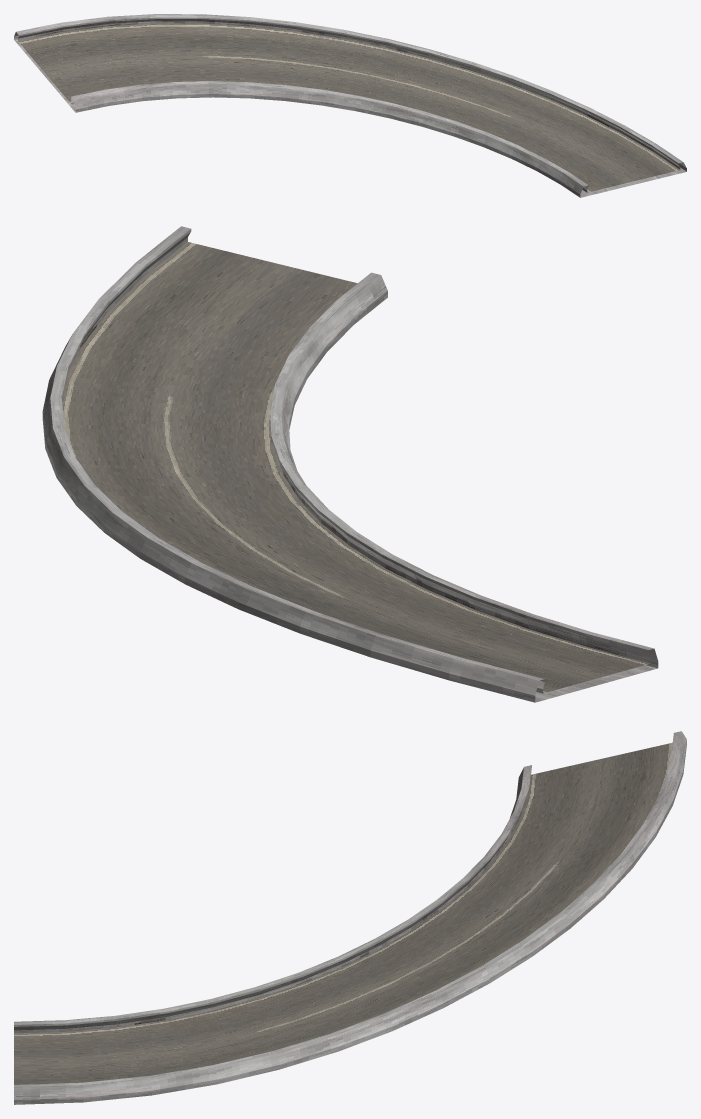
The model's file is turn-left4x4.glb.
The picture shows the model from 3 angles, top to bottom: view 1: azimuth 30°, elevation 25°; view 2: azimuth 150°, elevation 25°; view 3: azimuth 270°, elevation 25°; orthographic projection. The views are drawn at different scales.
Parts seen in each view (by area): view 1: road-Turn-Flat-HalfBankedLeft-Up1-Left-Size4; view 2: road-Turn-Flat-HalfBankedLeft-Up1-Left-Size4; view 3: road-Turn-Flat-HalfBankedLeft-Up1-Left-Size4.
Part boxes in pixels (x1=…): road-Turn-Flat-HalfBankedLeft-Up1-Left-Size4: x1=14, y1=14, x2=686, y2=197; road-Turn-Flat-HalfBankedLeft-Up1-Left-Size4: x1=42, y1=226, x2=658, y2=702; road-Turn-Flat-HalfBankedLeft-Up1-Left-Size4: x1=14, y1=731, x2=686, y2=1104.
Bounding box in the file's own units: 4 × 0.5859 × 4.
Materials: 2 (2 with a texture image).
